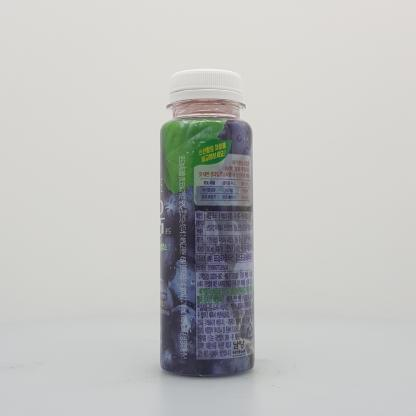---------210ML: (159, 68, 254, 377)
